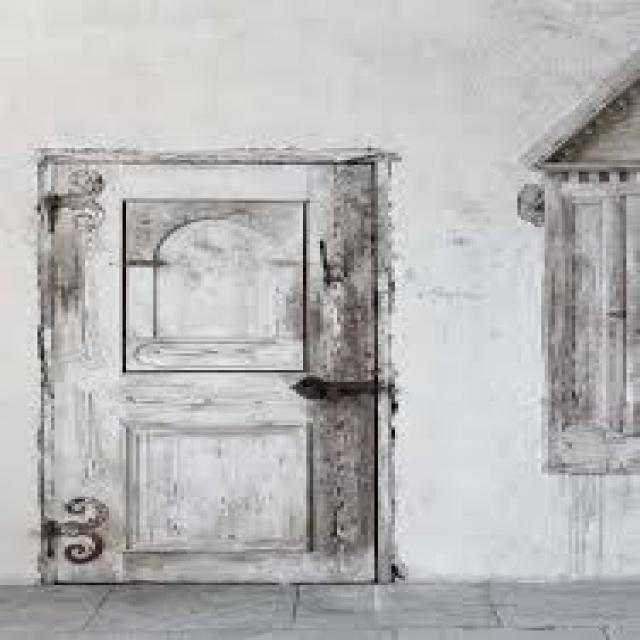Door: (37, 160, 395, 583)
